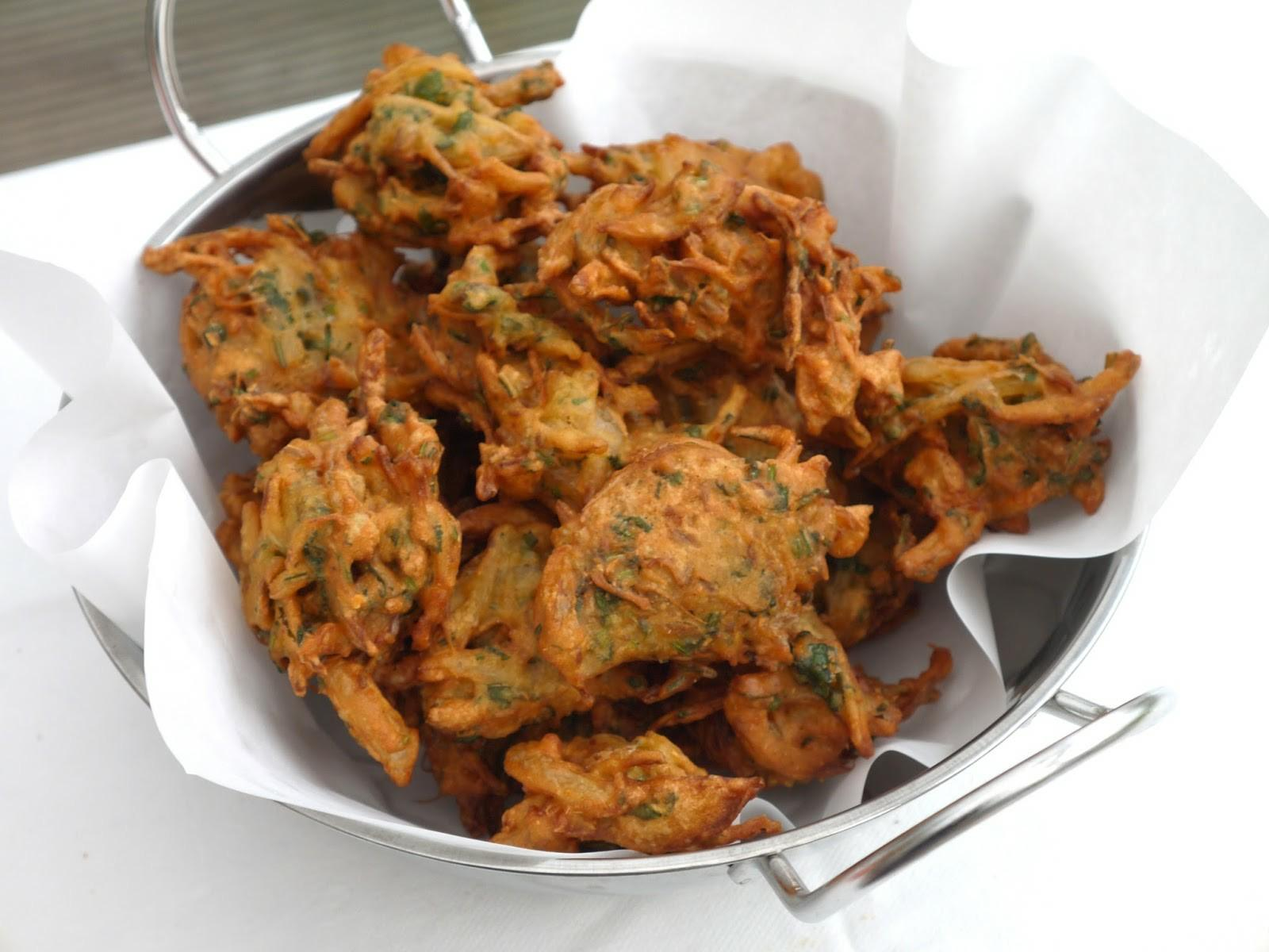OnionPakoda: (132, 50, 1135, 854)
